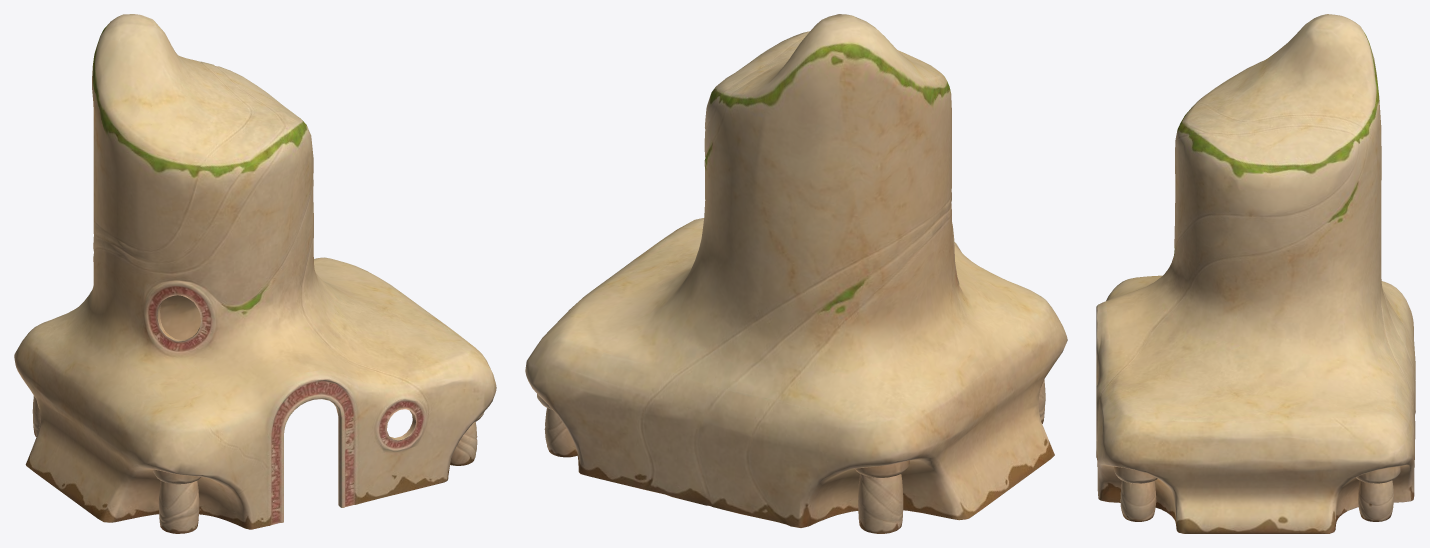
Rendered from sky_hut_c.glb.
The picture shows the model from 3 angles, left to right: view 1: azimuth 30°, elevation 25°; view 2: azimuth 150°, elevation 25°; view 3: azimuth 270°, elevation 25°; orthographic projection. The views are drawn at different scales.
Visible parts, largest first — view 1: hut_c; view 2: hut_c; view 3: hut_c.
Boxes of the visible parts, x1=… form: hut_c: x1=14, y1=14, x2=496, y2=533; hut_c: x1=525, y1=14, x2=1067, y2=533; hut_c: x1=1096, y1=14, x2=1415, y2=533.
Size of the model in its own units: 8.12 by 8.68 by 6.37.
1 material, 1 textured.
